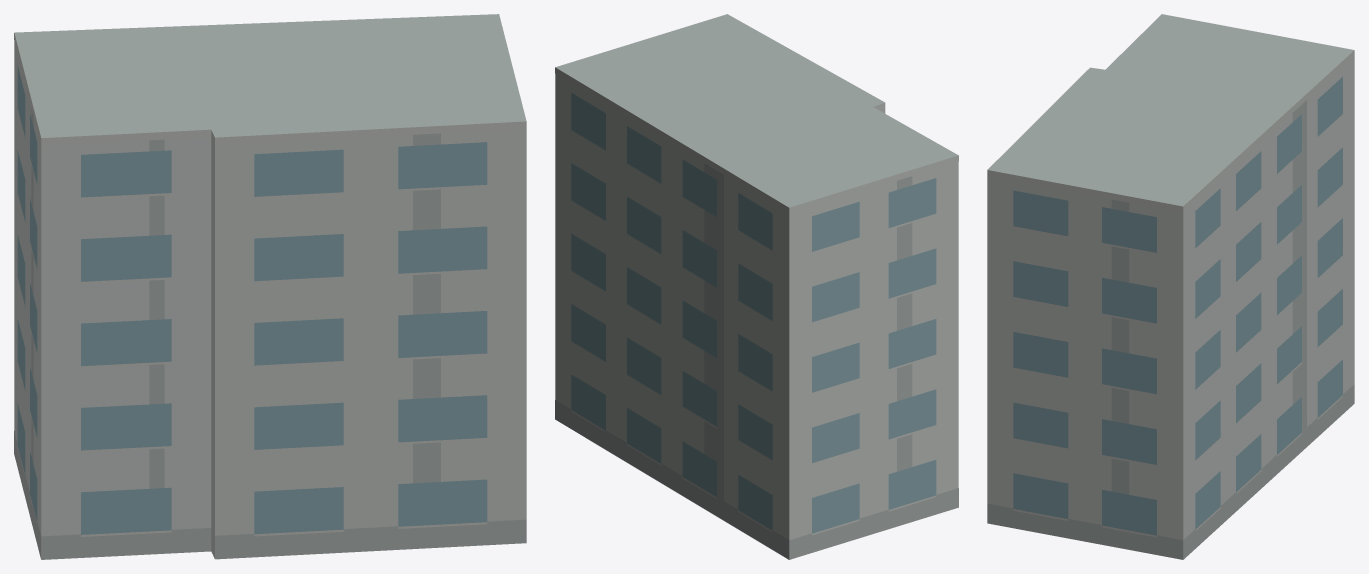
File: survey-upis-32778747.glb
3 renders of one model, left to right at view 1: azimuth 30°, elevation 25°; view 2: azimuth 150°, elevation 25°; view 3: azimuth 270°, elevation 25°, orthographic. The views are drawn at different scales.
Parts seen in each view (by area): view 1: survey-upis-32778747.tmp; view 2: survey-upis-32778747.tmp; view 3: survey-upis-32778747.tmp.
Part boxes in pixels (x1=…): survey-upis-32778747.tmp: x1=14, y1=14, x2=526, y2=559; survey-upis-32778747.tmp: x1=555, y1=14, x2=958, y2=559; survey-upis-32778747.tmp: x1=987, y1=14, x2=1354, y2=559.
Size of the model in its own units: 15.89 by 13.6 by 12.82.
